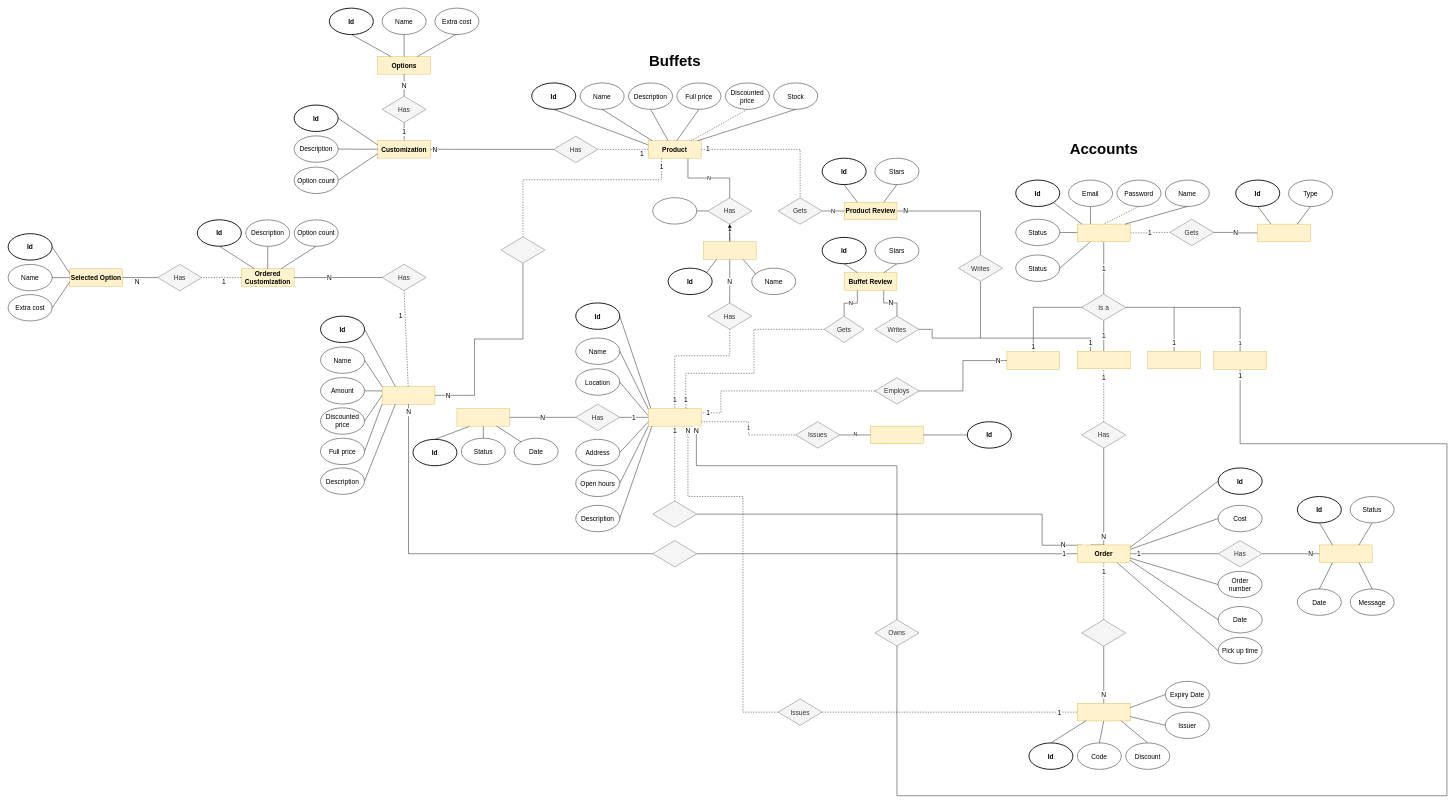
Some shapes in this 1455 by 804 pixel diagram are drawn without their labels. The shapes that lost their labels are listed below. From the top down, each one's box as (x1, y1, x2, y2) in pixels, then its label:
(652, 197, 697, 224): Is deal
(500, 236, 545, 263): Makes up
(703, 241, 756, 259): Category
(1077, 224, 1130, 242): User
(1257, 224, 1311, 242): Token
(1006, 351, 1060, 369): Buffet worker
(1077, 351, 1130, 369): Customer
(1147, 351, 1201, 369): Admin
(1213, 351, 1267, 369): Buffet owner
(382, 386, 435, 404): Ordered Product
(456, 408, 510, 426): Buffet Status
(648, 408, 701, 426): Buffet
(870, 426, 923, 444): Invitation token
(652, 500, 697, 527): Receives
(652, 540, 697, 567): Contains
(1319, 544, 1372, 563): Order Status
(1081, 619, 1126, 646): Can use
(1077, 703, 1130, 721): Cupon
